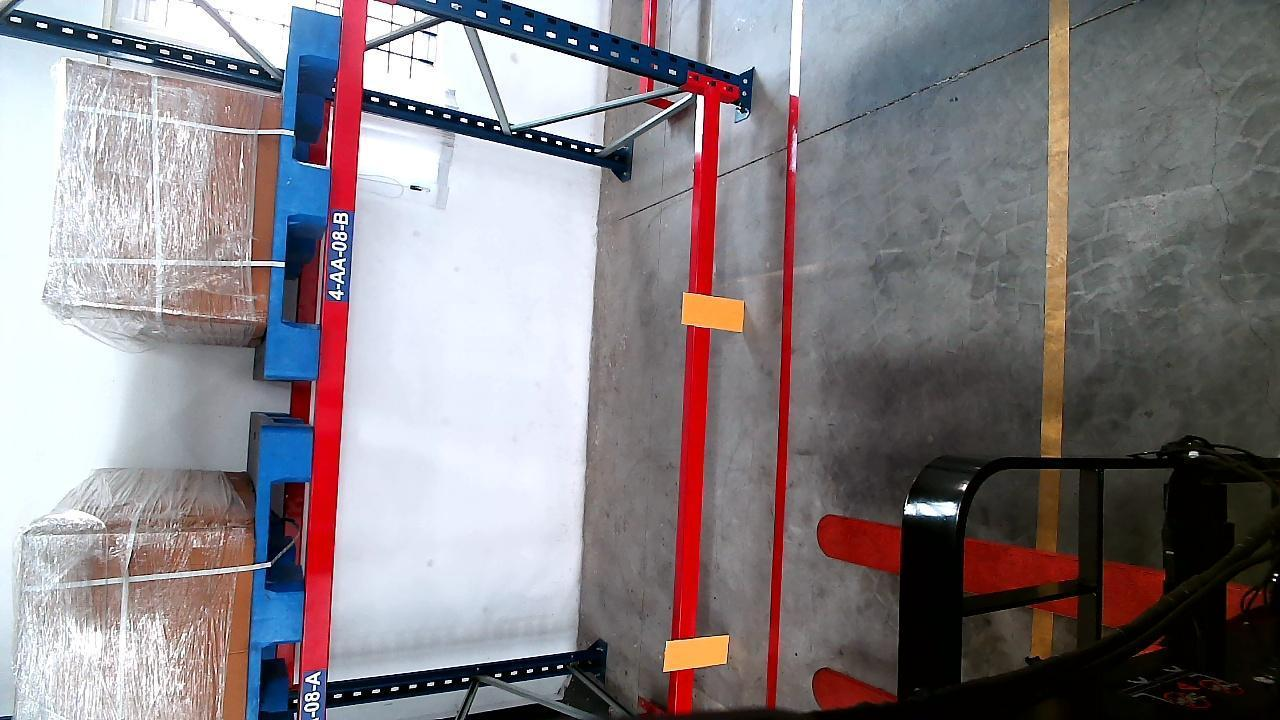h_rack: (302, 6, 367, 720), (672, 75, 721, 720)
orange_strip: (664, 634, 729, 671), (684, 295, 746, 328)
red_line: (763, 1, 807, 701)
small_pallet: (268, 13, 341, 381), (248, 433, 312, 719)
yellow_line: (1029, 0, 1072, 662)
